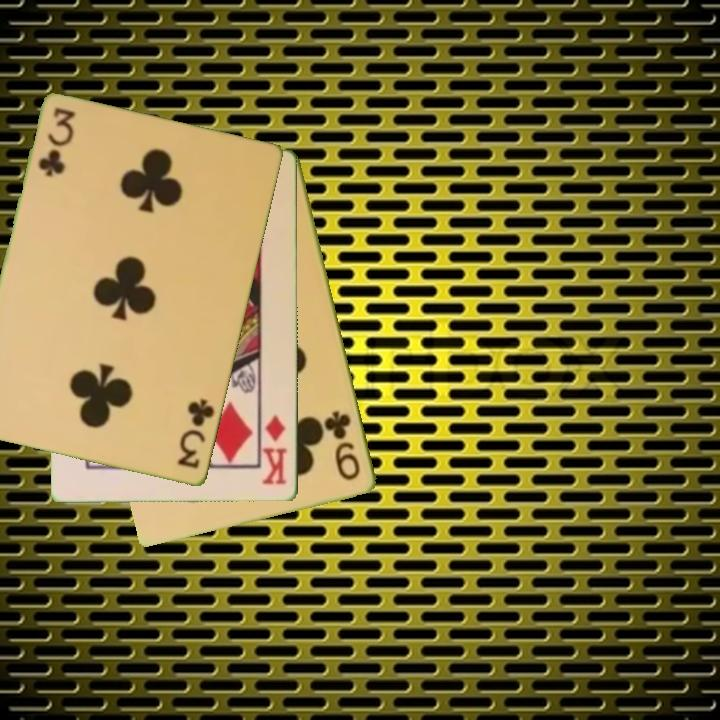3c: (174, 395, 218, 472), (35, 104, 78, 181)
9c: (324, 407, 364, 484)
Kd: (260, 411, 291, 488)
